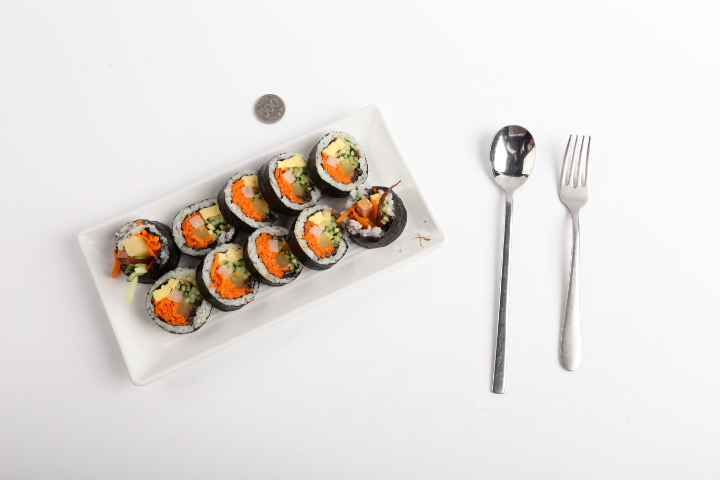dish: (77, 103, 443, 386)
ref_coin: (253, 94, 286, 124)
ref_fork: (558, 134, 591, 217)
ref_spoon: (489, 124, 536, 200)
김밥: (114, 131, 408, 334)
